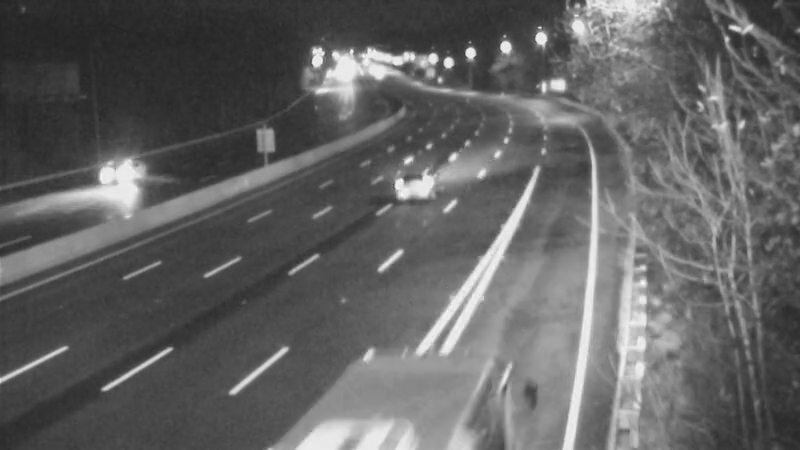vehicle: (371, 152, 451, 232), (75, 134, 155, 214)
